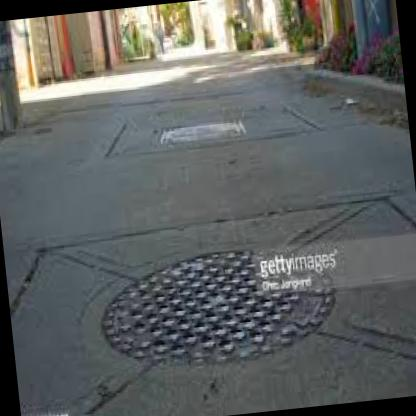manholes: (79, 220, 364, 399), (138, 90, 261, 186)
